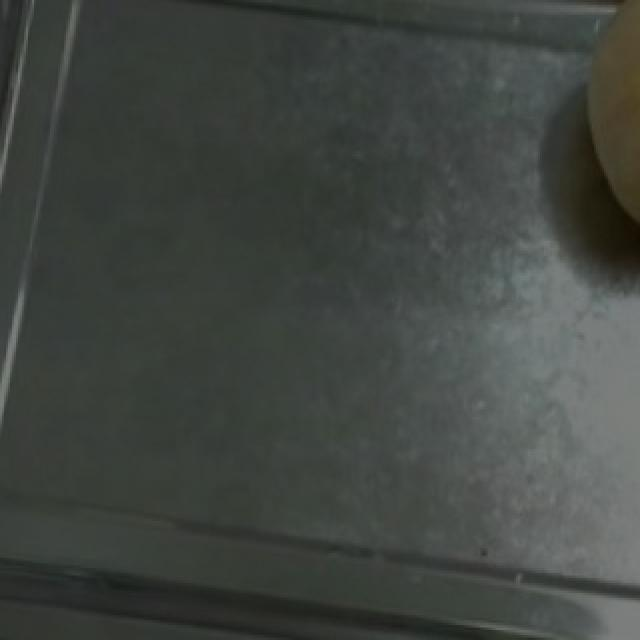Fruit: (564, 0, 640, 243)
